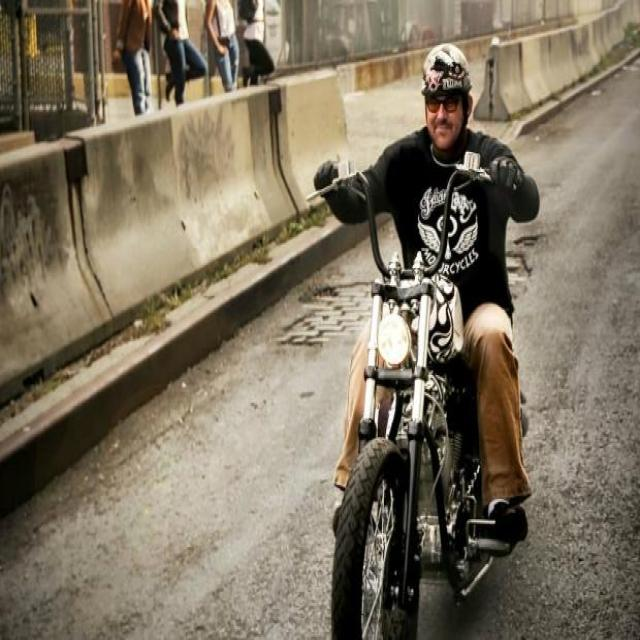motorcycle: (314, 43, 539, 638)
